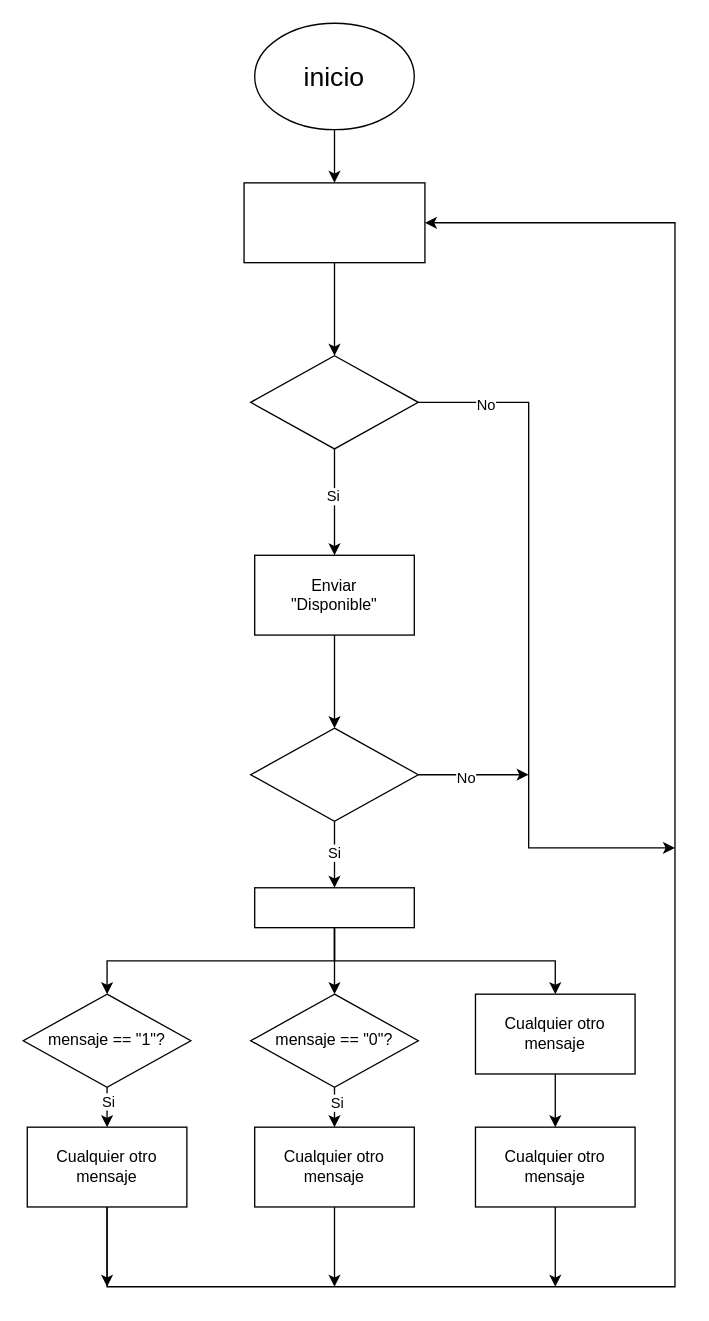
Image size: 709x1321. Some labels were removed from this diagram. Each missing label, with the centre of its shape:
"Configurar: - Serial.begin(9600) - pinMode(13, OUTPUT)" goes at [334,222].
"Han pasado 5 segundos?" goes at [333,401].
"Hay dato en Serial?" goes at [333,774].
"Leer mensaje" goes at [333,907].
